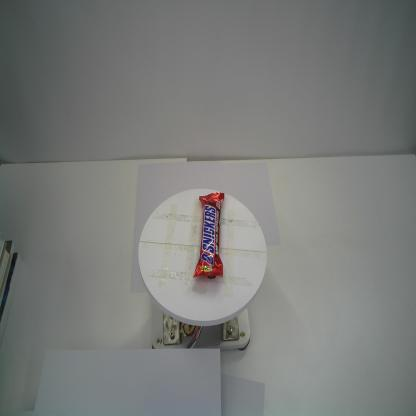Chocolate: (192, 191, 224, 278)
